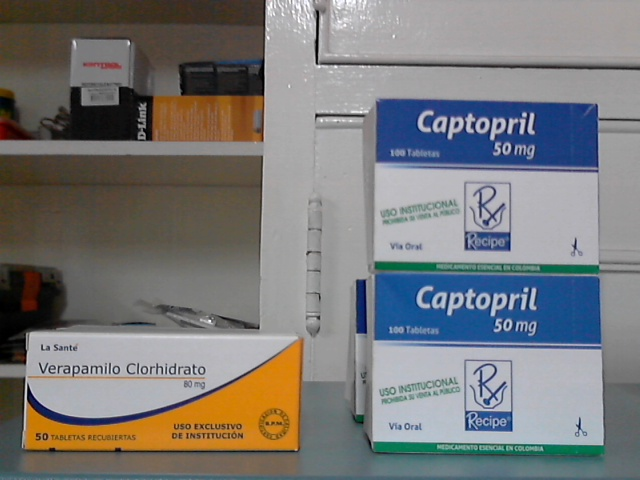LaSante: (26, 334, 301, 448)
